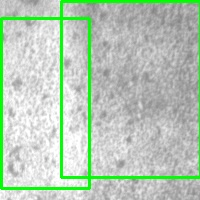pitted_surface: (61, 1, 200, 177), (1, 18, 89, 188)
